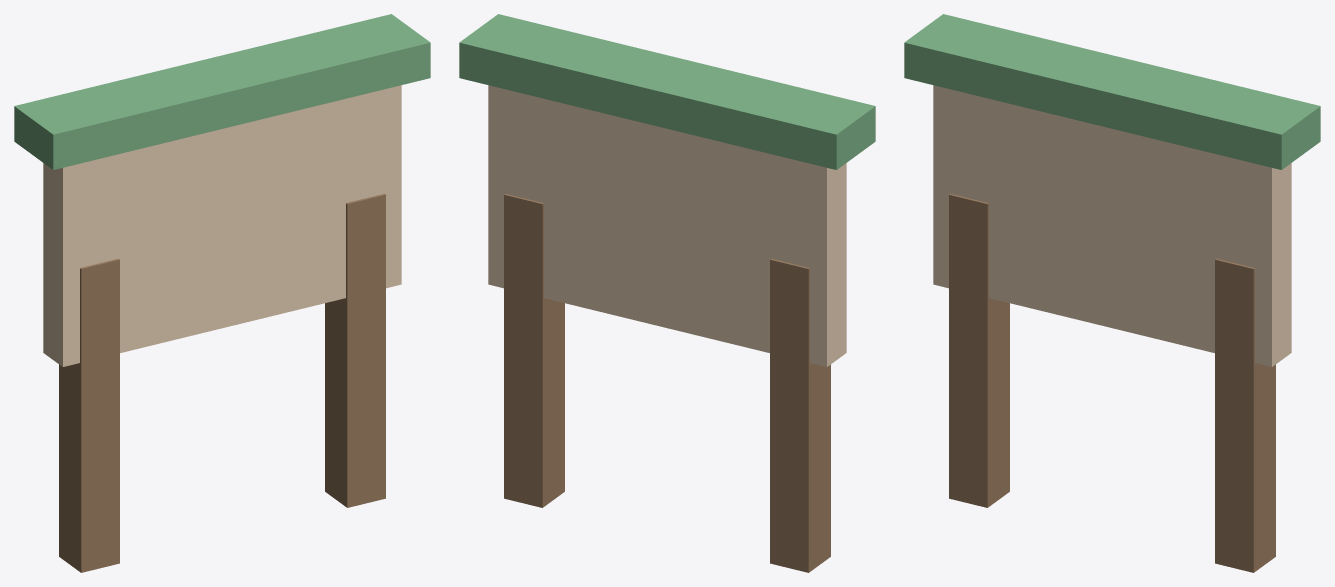
File: prop-habitat-plaque.dbed8168.glb
3 renders of one model, left to right at view 1: azimuth 30°, elevation 25°; view 2: azimuth 150°, elevation 25°; view 3: azimuth 330°, elevation 25°, orthographic.
Parts seen in each view (by area): view 1: prop-habitat-plaque; view 2: prop-habitat-plaque; view 3: prop-habitat-plaque.
Part boxes in pixels (<box>): prop-habitat-plaque: <box>14,14,430,572</box>; prop-habitat-plaque: <box>459,14,875,572</box>; prop-habitat-plaque: <box>904,14,1320,572</box>.
Bounding box in the file's own units: 1.56 × 1.79 × 0.28.
